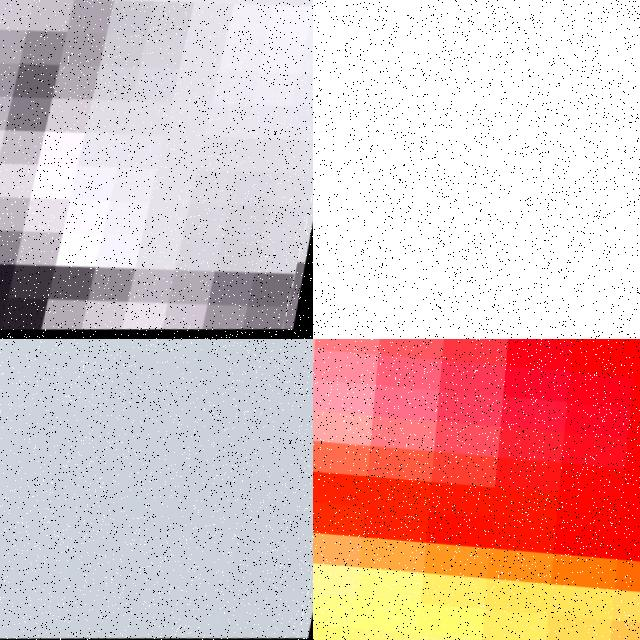drone: (313, 0, 640, 339), (0, 0, 313, 339), (0, 339, 313, 640)
